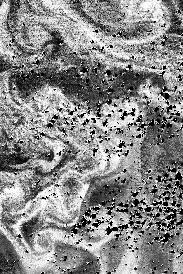CE: (14, 14, 57, 62), (33, 230, 57, 256)
